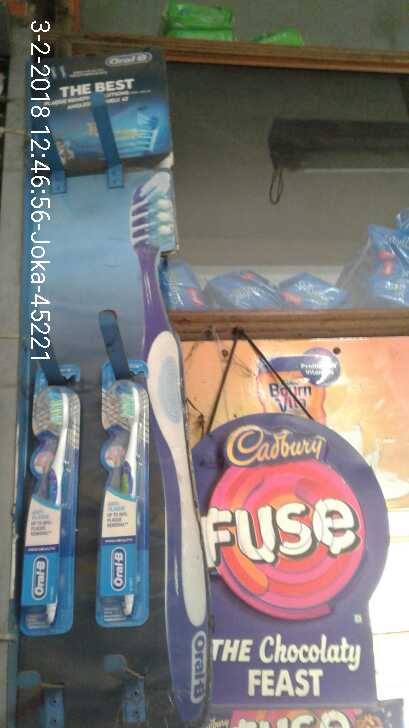oralb: (18, 366, 80, 644), (97, 365, 155, 643)
